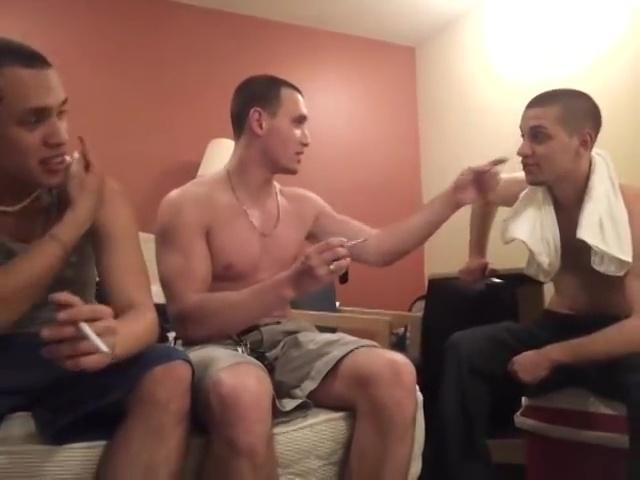cigarette: (77, 317, 114, 356), (341, 234, 371, 251)
